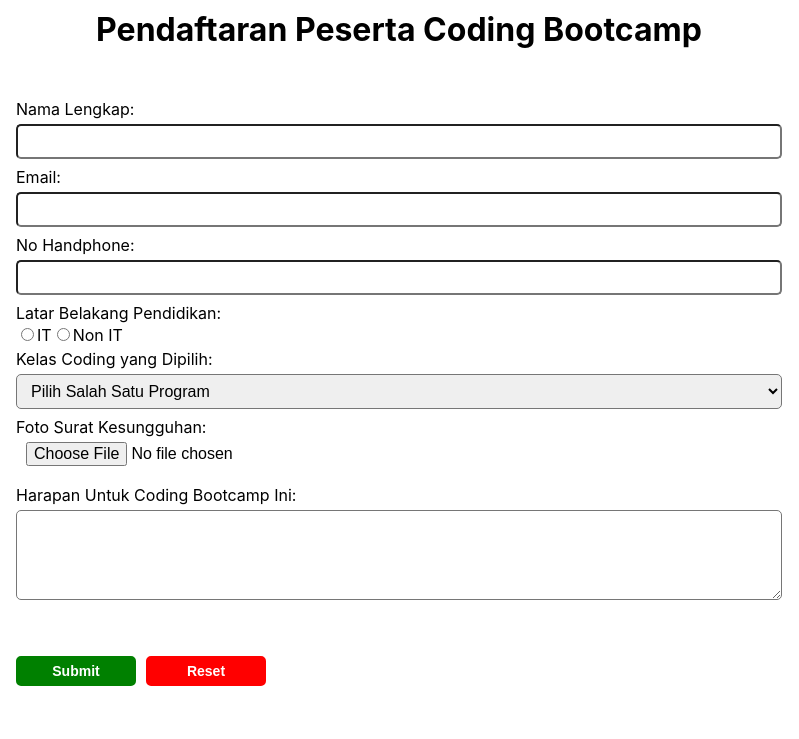
Test: Form › validated input noHandphone
Type "081" into the number field with test id "noHandphone".
click(399, 278); type("081")  # box [16, 260, 782, 295]
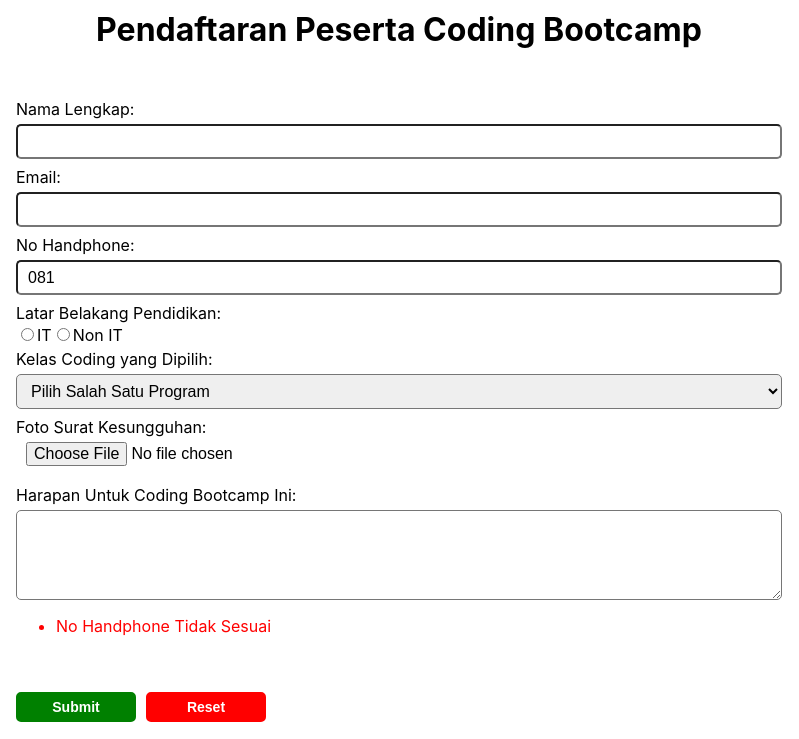
Expected: the list item "No Handphone Tidak Sesuai" is shown, [56, 616, 271, 636]
